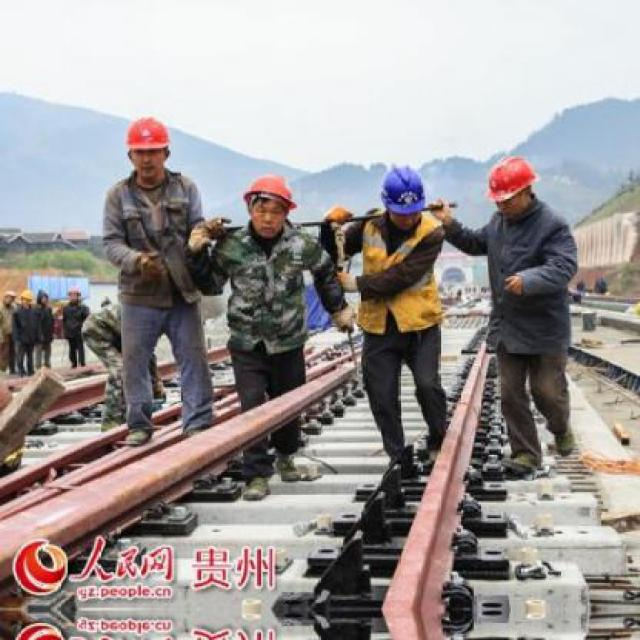helmet: (236, 165, 299, 238), (482, 151, 540, 218), (121, 112, 174, 184), (378, 163, 424, 230)
